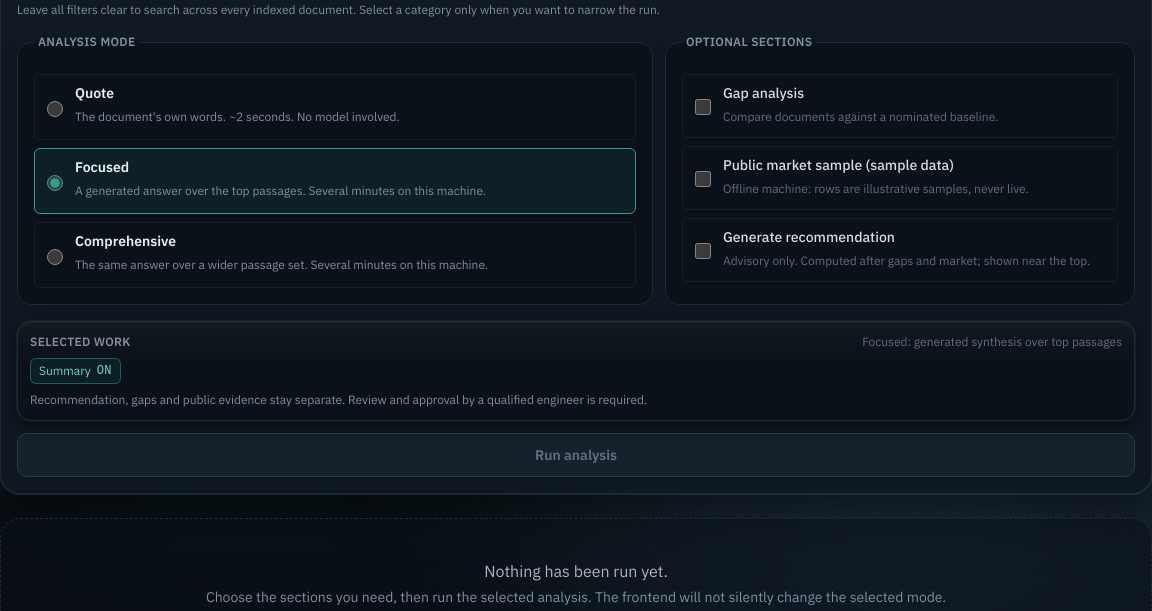
B34: removed sentences are shown, greyed, and outside the answer › shows what was removed from a recommendation, even when none survived
The width and height of the screenshot is (1152, 611).
(page scrolled)
Click the checkbox labelled "Generate recommendation" at (703, 251), box x1=695 y1=229 x2=711 y2=273
(page scrolled)
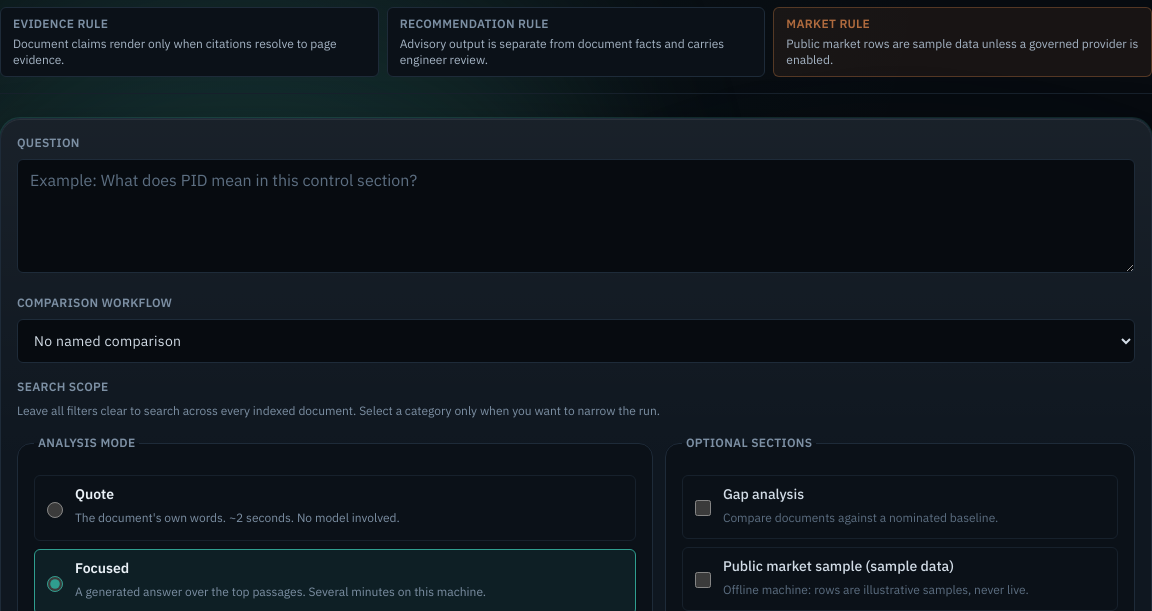
Type "what is the minimum coating thickness" into the text box labelled "Question" at (576, 216), box x1=17 y1=159 x2=1135 y2=273
(page scrolled)
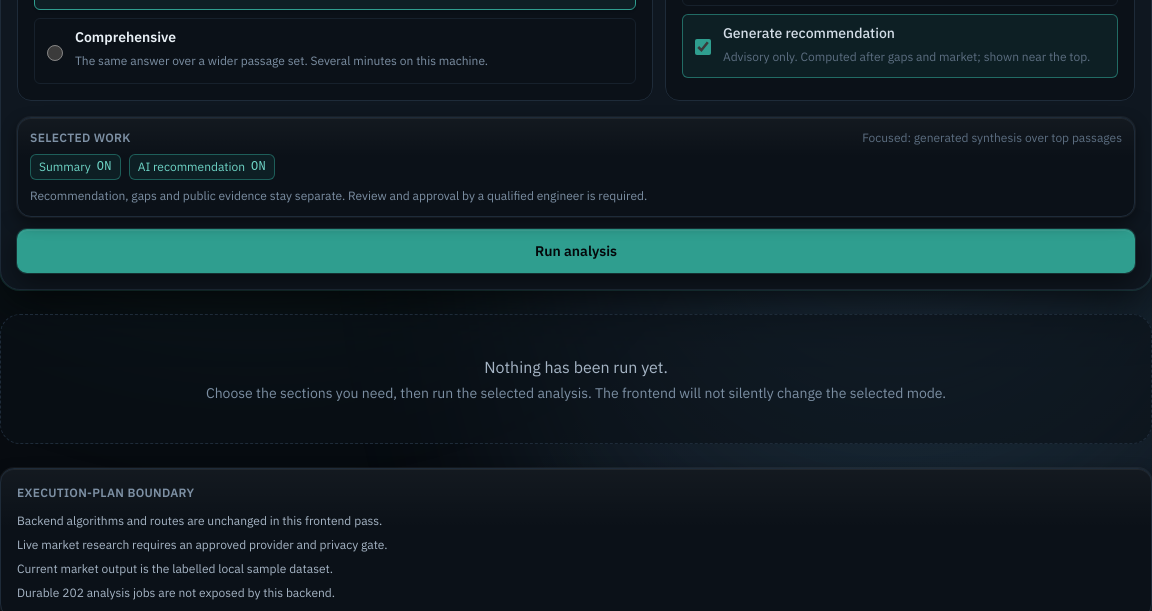
Click the button "Run analysis" at (576, 251), box x1=17 y1=229 x2=1135 y2=273
(page scrolled)
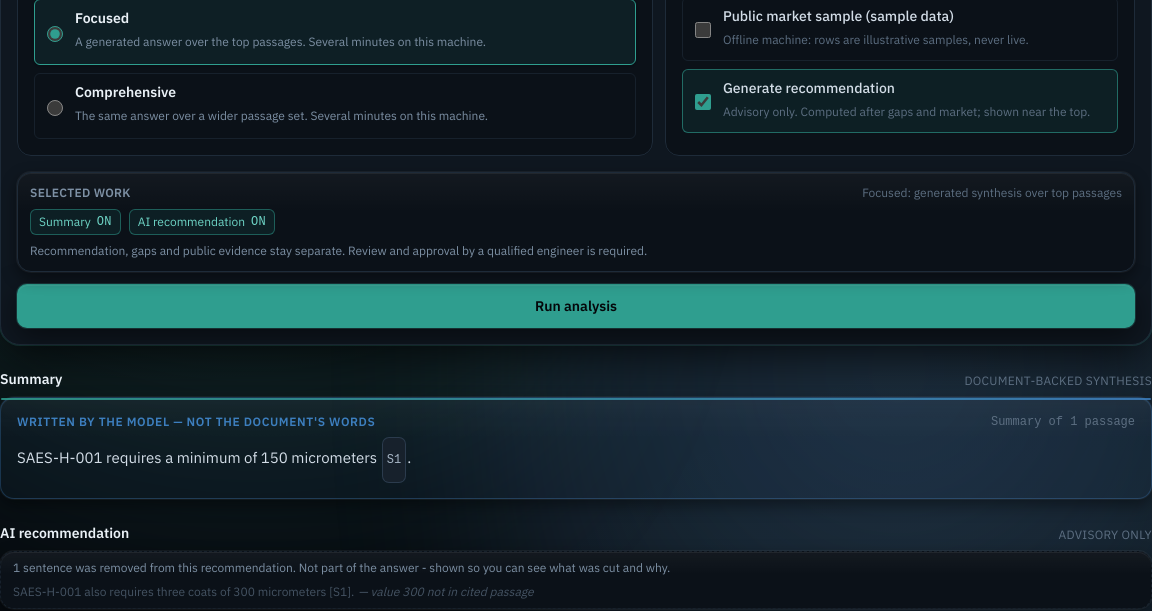
expect the list item shows "value 300 not in cited passage": met, box x1=370 y1=584 x2=534 y2=599
